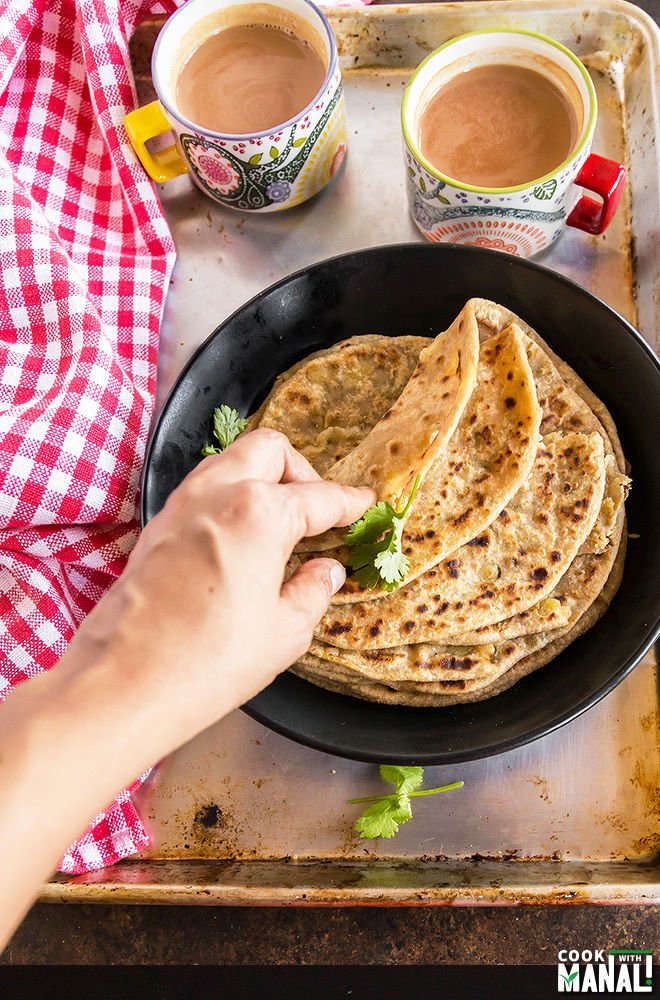aloo_paratha: (262, 300, 629, 714)
